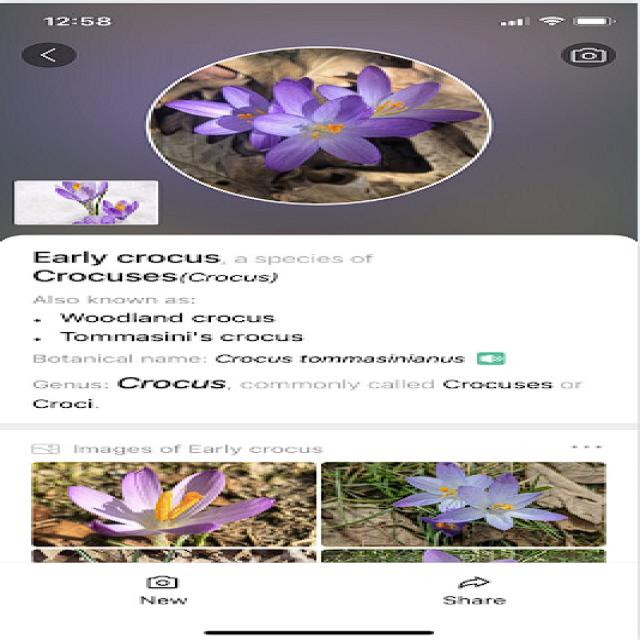icon button: (426, 566, 535, 610), (124, 564, 222, 612), (16, 35, 92, 72), (555, 36, 629, 70), (546, 436, 614, 459)
image: (183, 64, 449, 185), (28, 466, 312, 545), (330, 465, 605, 544), (12, 179, 162, 227)
text: (19, 241, 622, 413)
